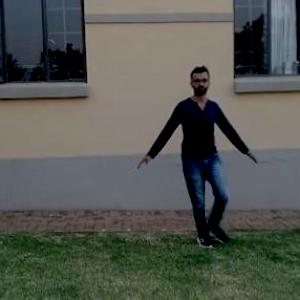land: (138, 68, 266, 237)
